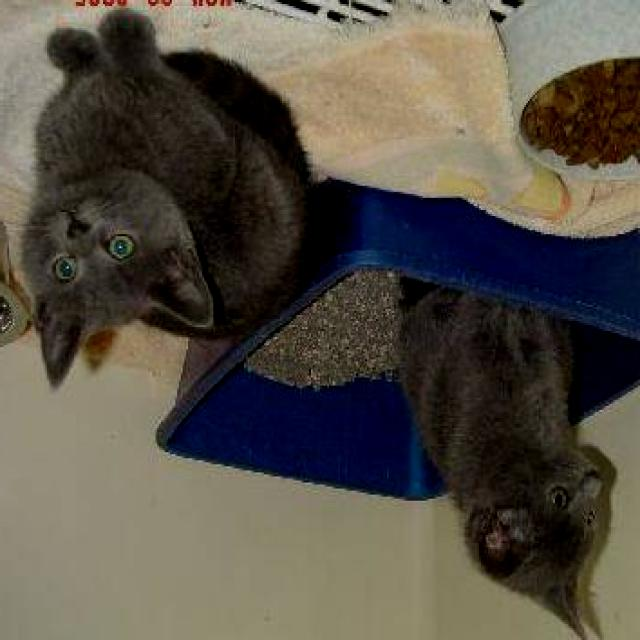Kucing: (0, 19, 308, 398), (355, 263, 635, 640)
